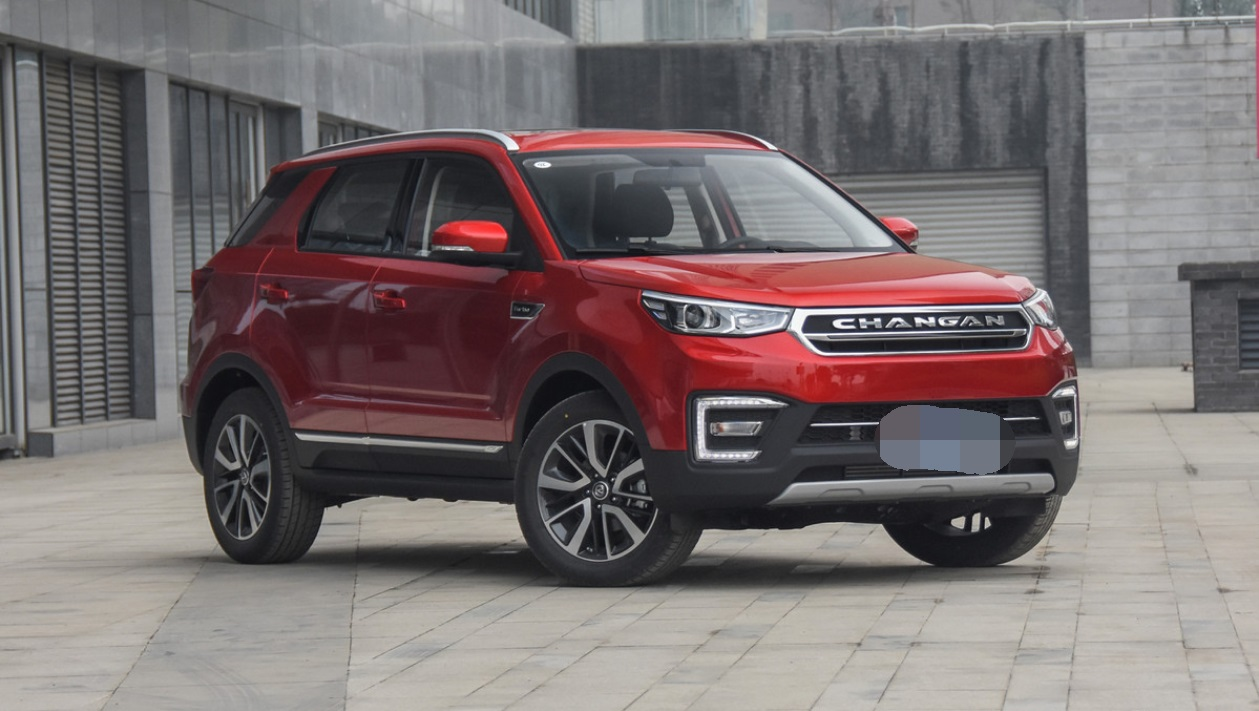SUV: (187, 121, 1091, 595)
